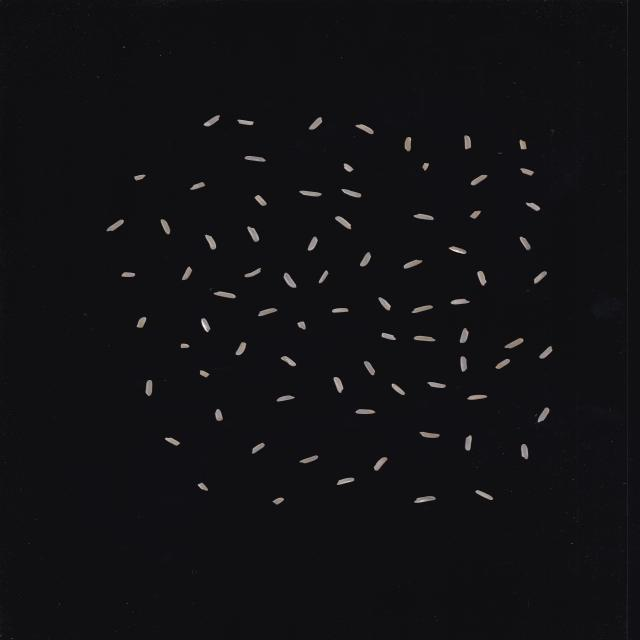Not: (335, 216, 352, 230), (106, 219, 124, 232), (283, 272, 297, 288), (538, 345, 554, 359), (470, 174, 488, 186), (373, 457, 388, 471), (247, 226, 260, 242), (204, 234, 217, 250), (363, 360, 376, 376), (537, 407, 550, 423), (203, 115, 220, 127), (403, 260, 423, 270), (504, 338, 524, 348), (308, 117, 323, 130), (359, 252, 372, 267), (391, 383, 406, 396), (533, 271, 548, 284), (355, 124, 374, 134), (475, 490, 494, 500), (341, 189, 362, 198), (213, 291, 236, 299), (411, 305, 434, 313), (378, 297, 391, 311), (251, 442, 266, 454), (299, 455, 319, 464), (181, 266, 193, 281), (520, 236, 532, 251), (333, 377, 344, 393), (495, 358, 511, 369), (244, 268, 261, 278), (257, 308, 278, 316), (413, 496, 437, 503), (160, 219, 171, 234), (307, 236, 318, 251), (459, 328, 470, 343), (299, 190, 322, 197), (280, 356, 296, 366), (448, 246, 468, 254), (336, 477, 356, 485), (235, 342, 247, 355), (318, 270, 329, 284), (201, 318, 211, 333), (477, 271, 487, 286), (450, 298, 471, 305), (413, 213, 434, 220), (164, 437, 180, 446), (525, 202, 541, 211), (254, 195, 267, 206), (413, 336, 436, 342), (145, 379, 153, 396), (189, 182, 206, 190), (520, 444, 529, 459), (463, 135, 472, 150), (276, 395, 295, 402), (354, 408, 376, 414), (460, 356, 468, 372), (464, 435, 472, 451), (245, 156, 266, 162), (136, 317, 147, 328), (404, 137, 412, 152), (381, 332, 396, 340), (426, 382, 446, 388), (420, 432, 440, 438), (469, 210, 482, 219), (520, 168, 534, 176), (214, 409, 223, 421), (343, 163, 355, 172), (467, 395, 488, 400), (237, 120, 254, 126), (272, 497, 284, 505), (133, 174, 146, 181), (198, 482, 208, 491), (331, 308, 349, 313), (199, 370, 210, 378), (519, 139, 527, 150), (297, 321, 306, 330), (120, 272, 136, 277), (422, 162, 429, 171), (180, 344, 190, 348)
